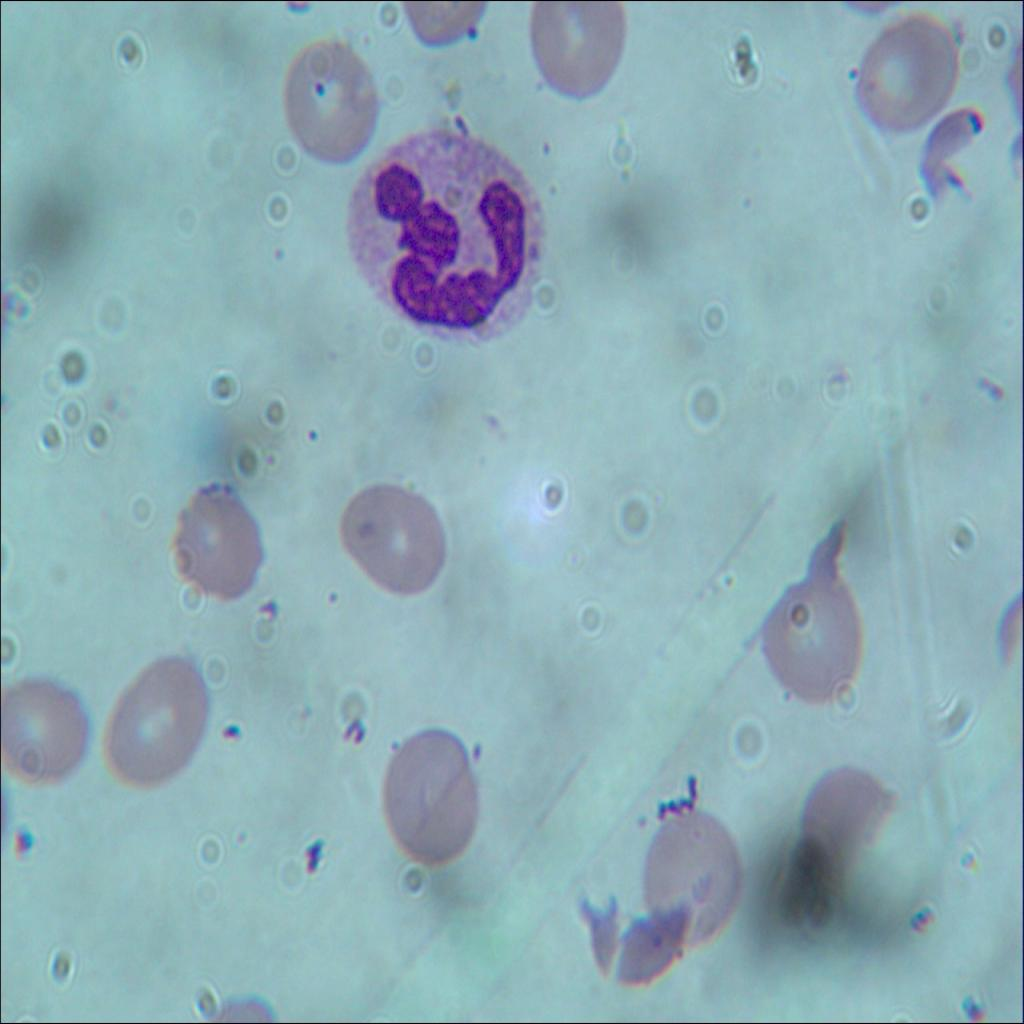Eritrosit: (373, 729, 491, 882), (636, 801, 746, 953), (336, 470, 459, 605), (758, 572, 872, 712), (106, 662, 214, 788), (853, 15, 963, 138), (279, 34, 379, 169), (526, 0, 636, 115), (174, 485, 268, 605), (1, 668, 90, 791)
Neutrofil: (339, 128, 543, 345)
Platelet: (464, 731, 493, 768), (18, 822, 39, 865), (221, 718, 241, 752), (462, 17, 483, 49), (314, 585, 339, 611), (306, 71, 326, 98), (306, 422, 322, 452), (844, 58, 861, 84)
